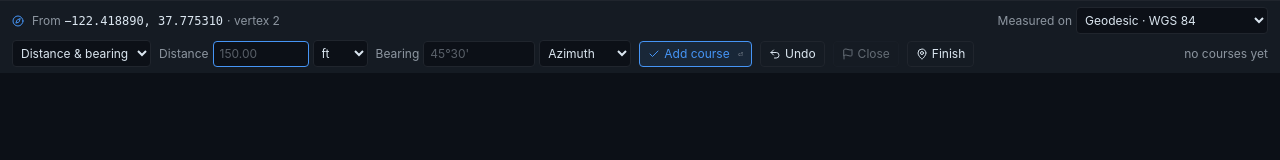
Scenario: TraverseBar › prints every element of the curve the deed describes
Select "Tangent curve" in the dropdown titled "What kind of course" at (82, 54), box [12,40,151,67]
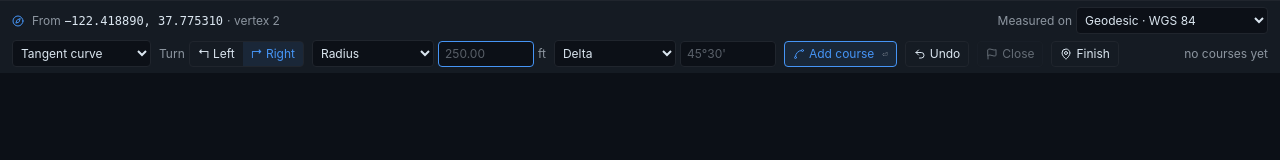
Type "250" into the field with test id "draw.traverse.curve.a".
click(486, 54); type("250")  # box [438,40,534,66]
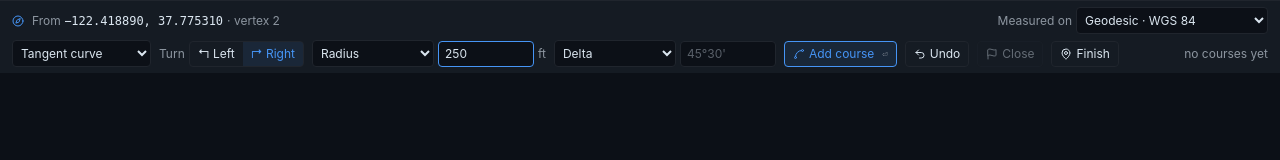
Type "45-30" into the field with test id "draw.traverse.curve.b".
click(728, 54); type("45-30")  # box [680,40,776,66]
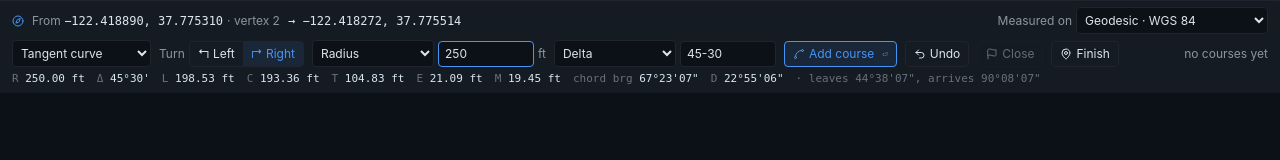
Check: the text "198.53 ft" is shown, box [175,72,235,85]
Check: the text "193.36 ft" is shown, box [260,72,320,85]
Check: the text "45°30'" is shown, box [110,72,150,85]
